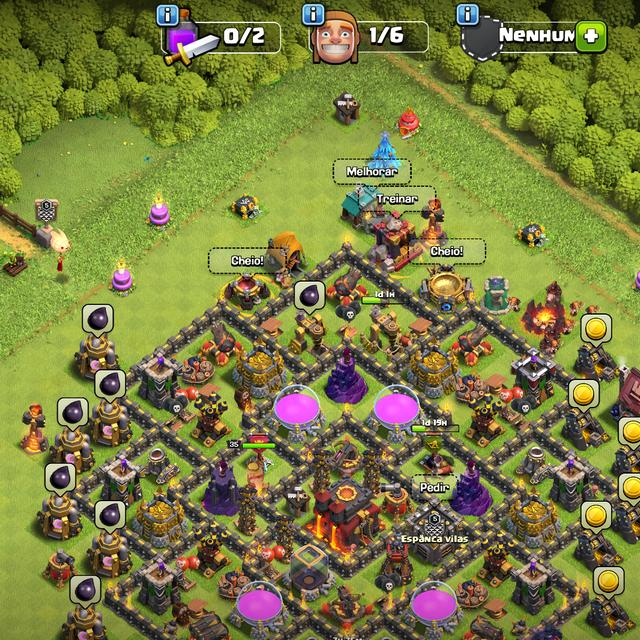ElixirNegro: (80, 303, 115, 335), (70, 574, 102, 608), (56, 397, 91, 427), (293, 281, 327, 311), (94, 369, 128, 399), (44, 462, 76, 493), (93, 500, 126, 529)
coin: (580, 312, 614, 344), (568, 378, 602, 410), (580, 501, 612, 532), (594, 566, 626, 597), (616, 471, 640, 502), (617, 418, 640, 446)
